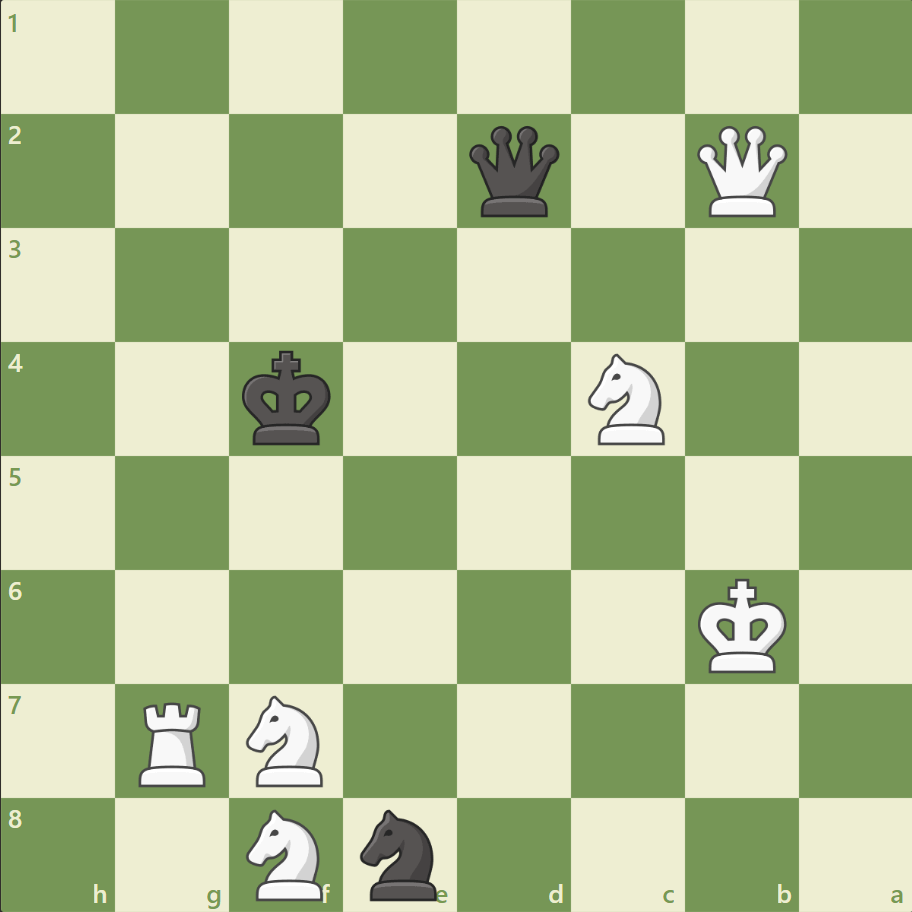K: (692, 571, 792, 679)
N: (238, 688, 335, 791), (238, 802, 335, 904), (579, 348, 676, 450)
Q: (691, 122, 790, 222)
R: (133, 693, 215, 790)
k: (238, 344, 338, 452)
n: (351, 802, 449, 904)
q: (464, 122, 563, 222)
